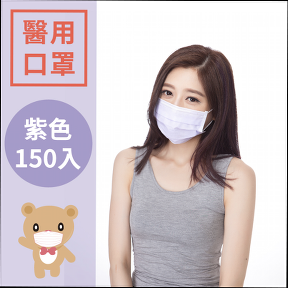with_mask: (153, 80, 214, 144)
